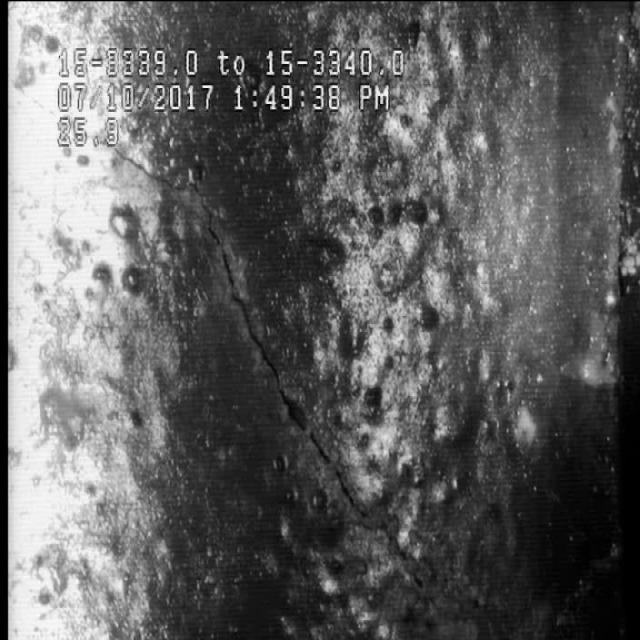Crack: (150, 173, 418, 589)
